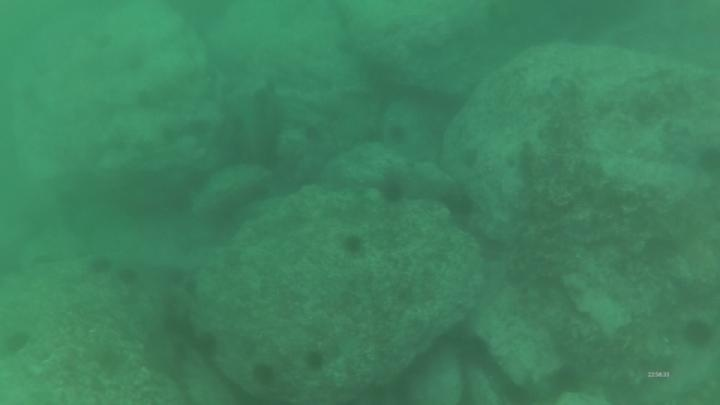echinus: (439, 187, 477, 221), (680, 316, 716, 350), (1, 327, 33, 358), (377, 175, 407, 206), (695, 142, 720, 178), (249, 360, 279, 388), (338, 231, 368, 258), (301, 346, 329, 373), (385, 121, 411, 148), (86, 253, 114, 277), (115, 264, 142, 288)
